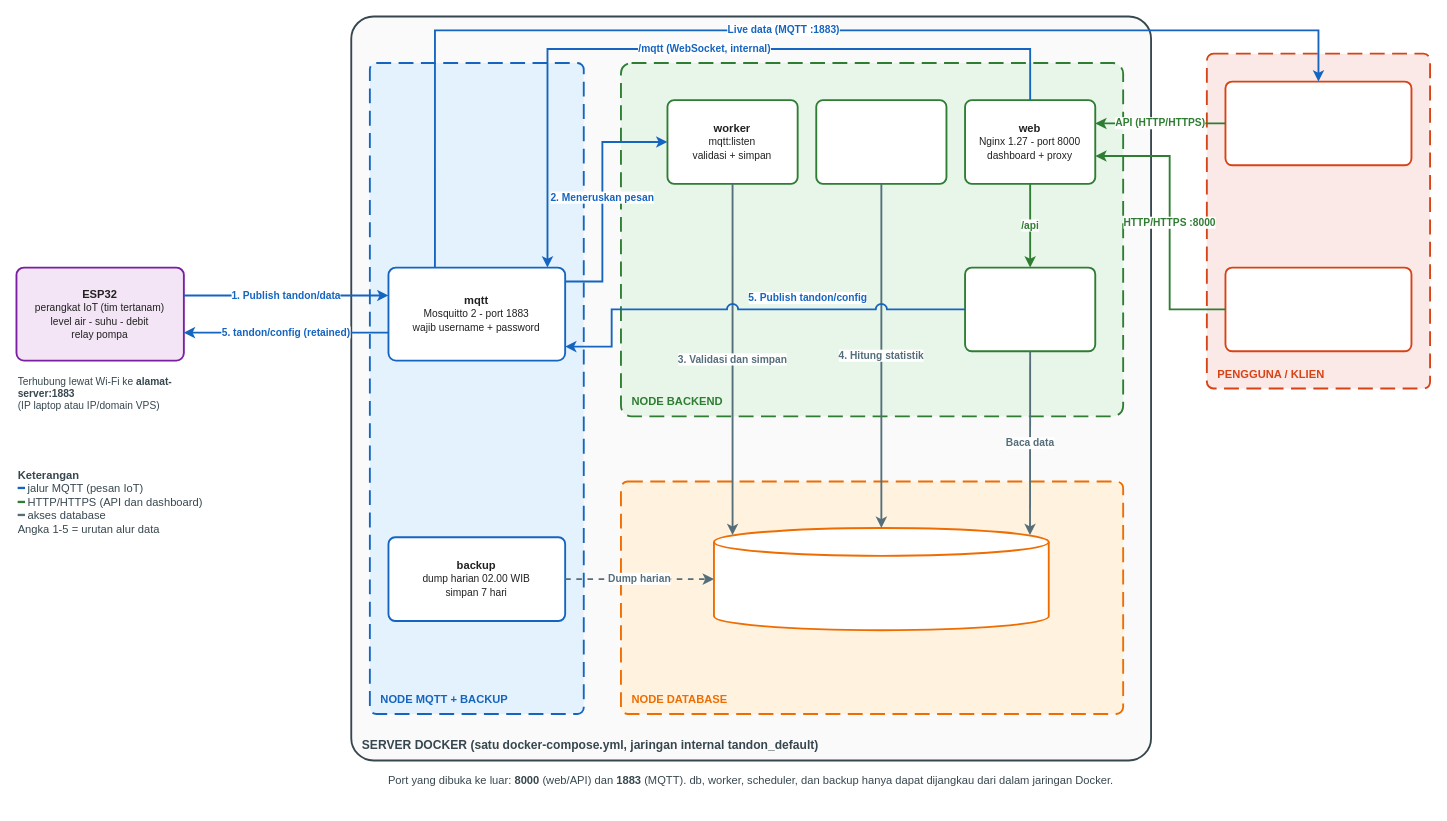
Some shapes in this 1447 by 821 pixel diagram are drawn without their labels. Here are the shapes that lost their labels. From the top down, the centre of each, then its label:
At point 881,141: "scheduler schedule:work statistik 5 menit".
At point 1318,123: "Aplikasi Flutter Android / iOS / web".
At point 1030,309: "app PHP 8.3-FPM Laravel API".
At point 1318,309: "Dashboard Web browser PC / HP".
At point 881,579: "db MariaDB 10.11 volume data, tidak dibuka ke luar".
